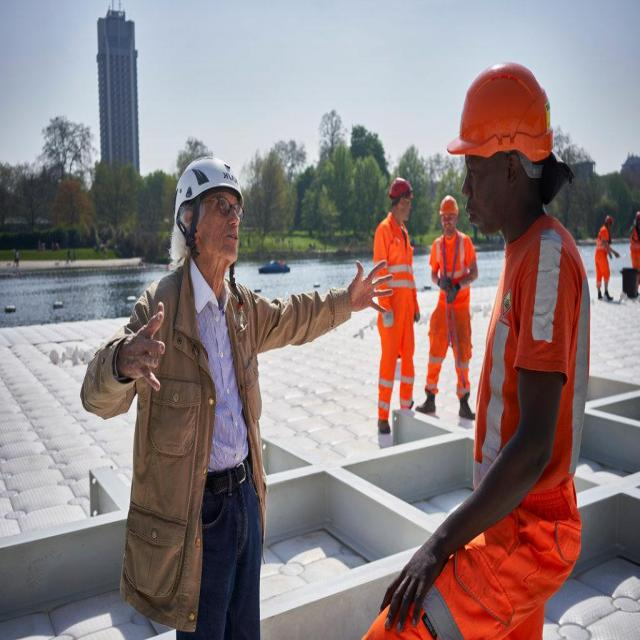Reflective-Jacket: (467, 208, 586, 533), (374, 215, 420, 417), (426, 235, 482, 345)
Safety-Helmet: (445, 59, 560, 172), (172, 152, 245, 215), (386, 172, 414, 202), (437, 194, 464, 222)
